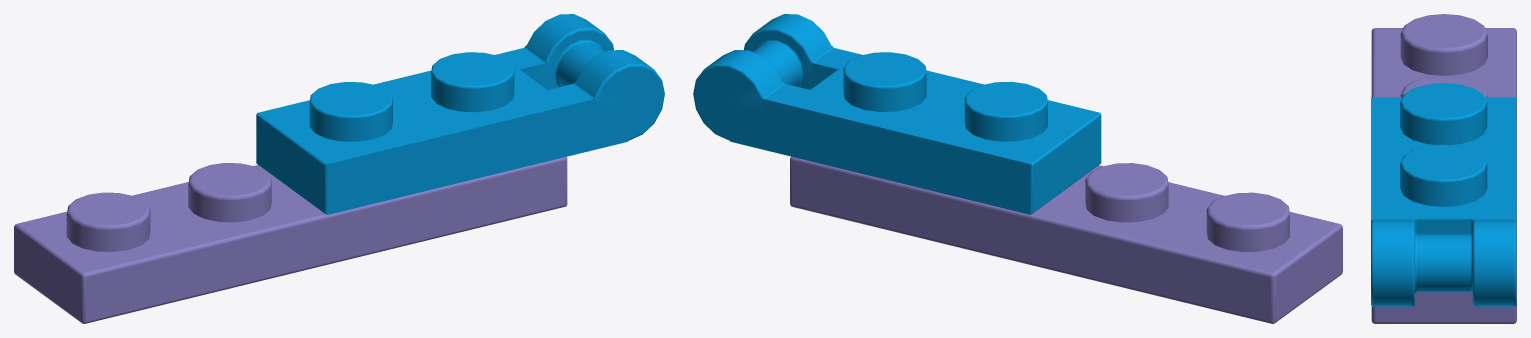
The model's file is Passo 48.fbx.
3 renders of one model, left to right at view 1: azimuth 30°, elevation 25°; view 2: azimuth 150°, elevation 25°; view 3: azimuth 270°, elevation 25°, orthographic. The views are drawn at different scales.
Visible parts, largest first — view 1: Plate_special_2x1, Plate_1x4.031; view 2: Plate_special_2x1, Plate_1x4.031; view 3: Plate_special_2x1, Plate_1x4.031.
Boxes of the visible parts, x1,y1,x2,y2 form: Plate_special_2x1: [256, 14, 664, 214]; Plate_1x4.031: [14, 157, 567, 323]; Plate_special_2x1: [693, 14, 1101, 214]; Plate_1x4.031: [790, 156, 1342, 323]; Plate_special_2x1: [1371, 83, 1516, 306]; Plate_1x4.031: [1371, 14, 1516, 323].
Size of the model in its own units: 0.3836 by 0.0802 by 0.0803.
